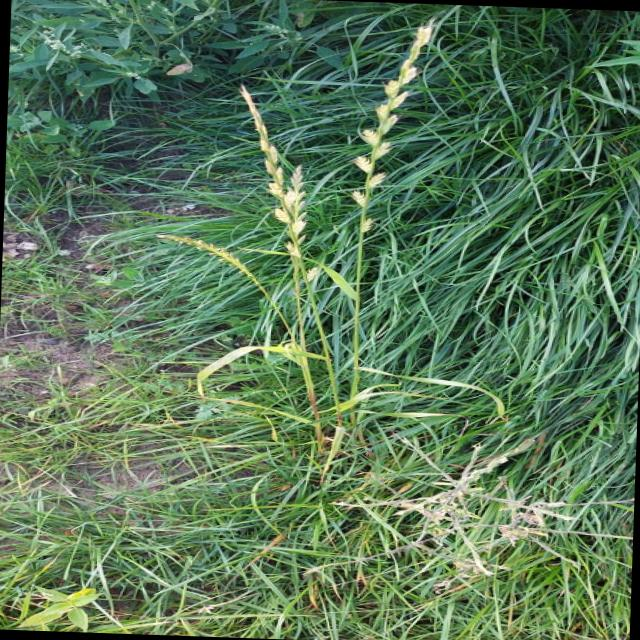Lolium: (342, 25, 445, 230), (220, 85, 308, 252)
